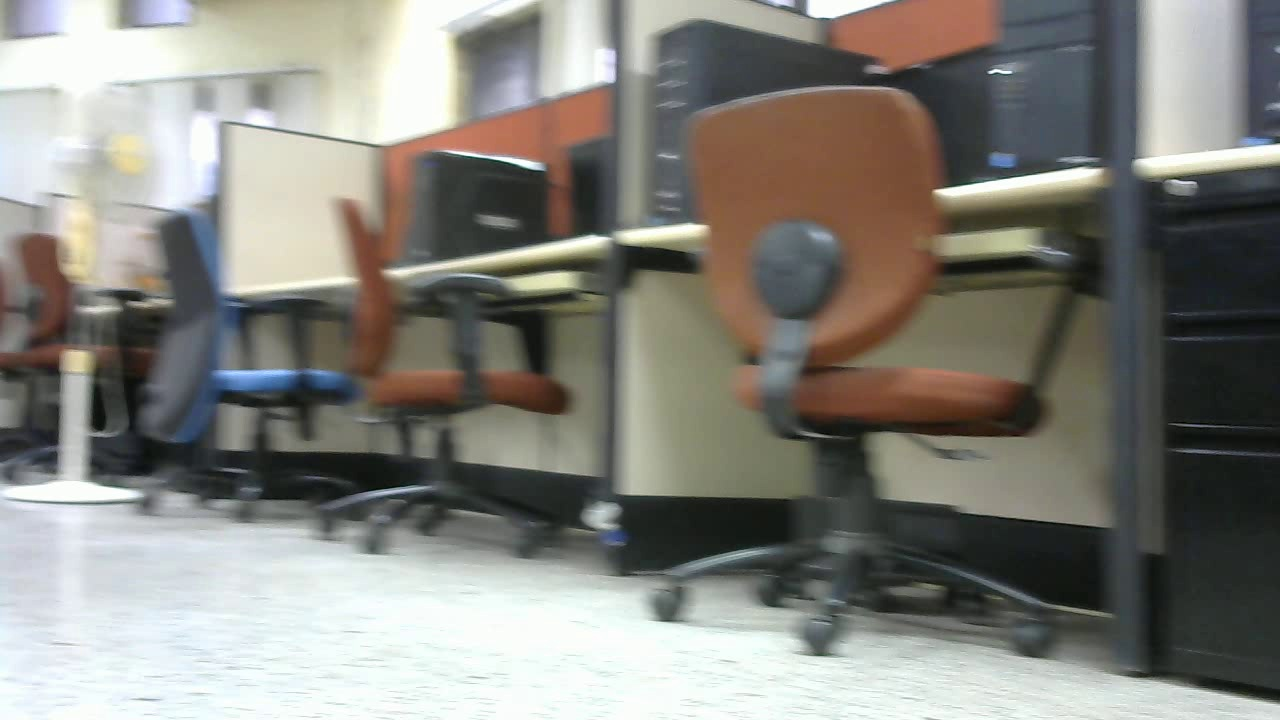chair: (645, 87, 1099, 657), (314, 199, 576, 559), (136, 212, 364, 526), (2, 225, 153, 470)
